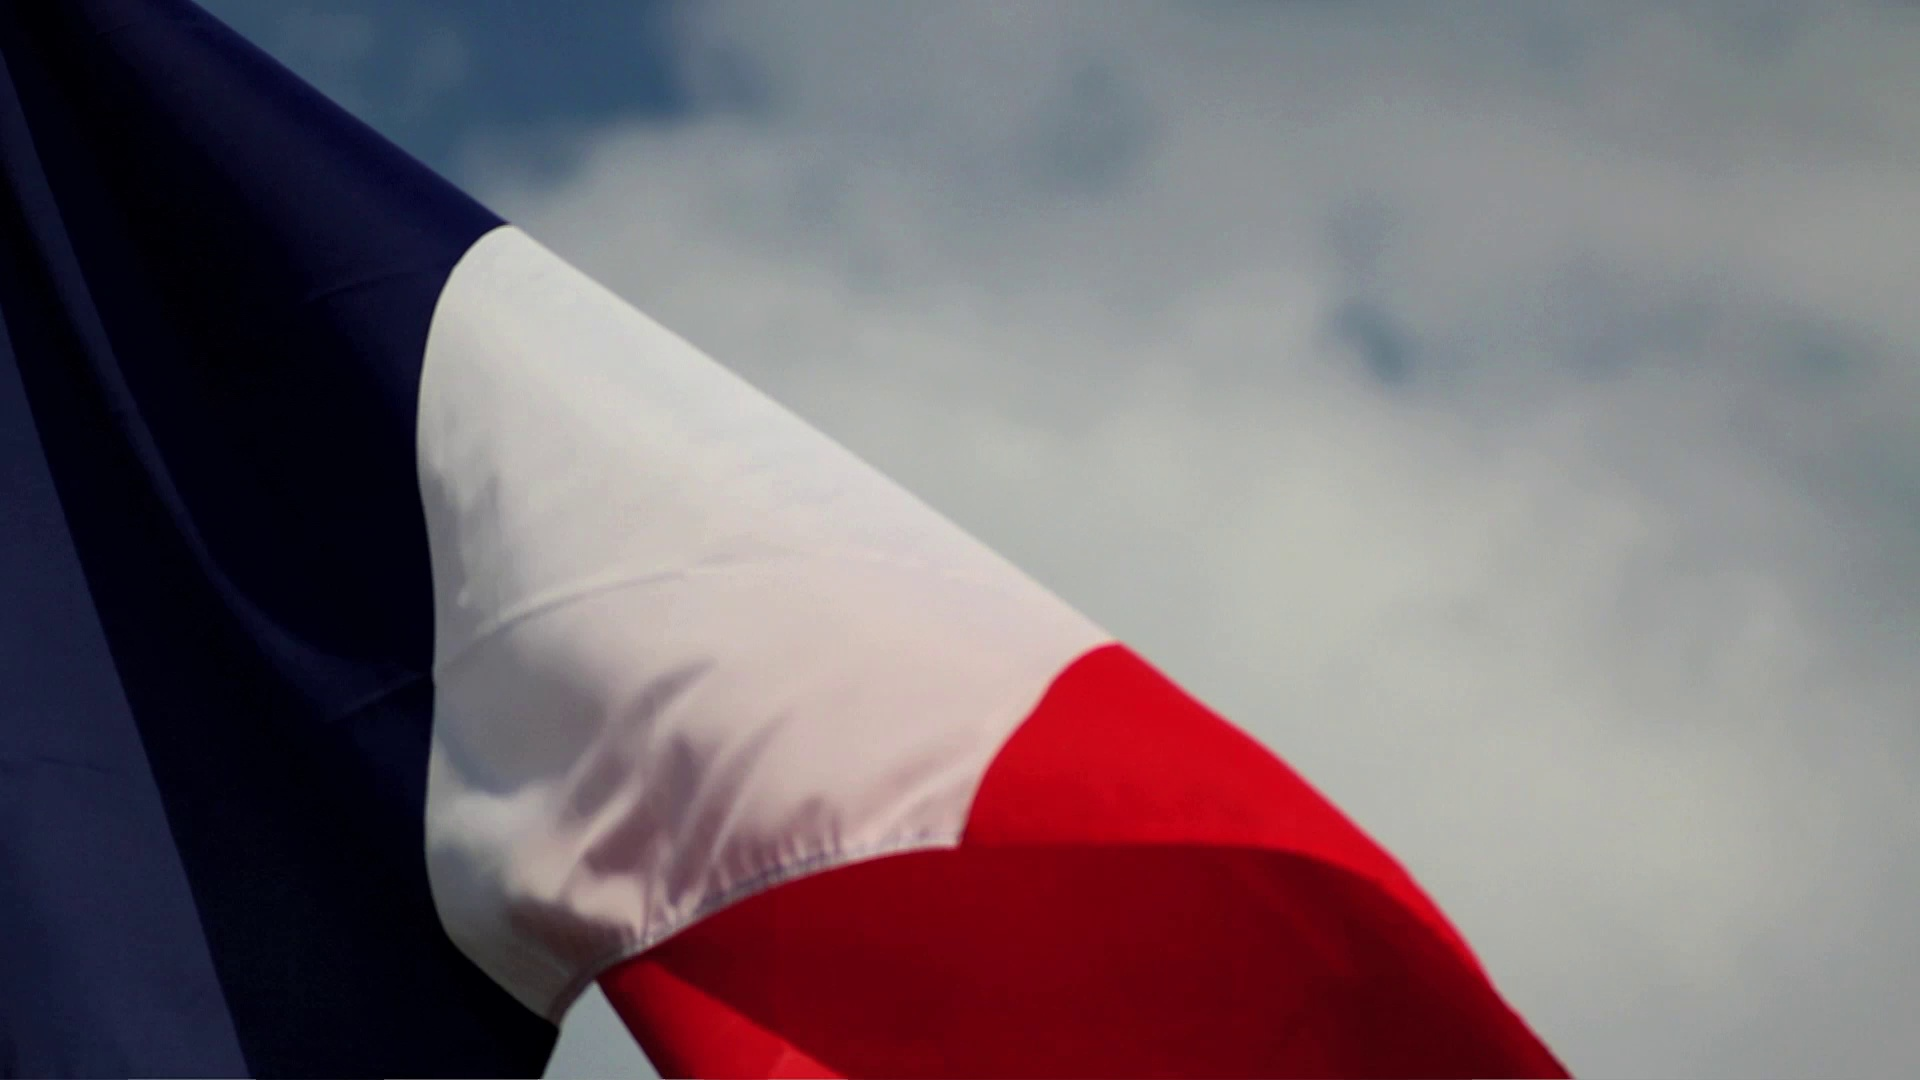French Flag: (1, 1, 1563, 1076)
